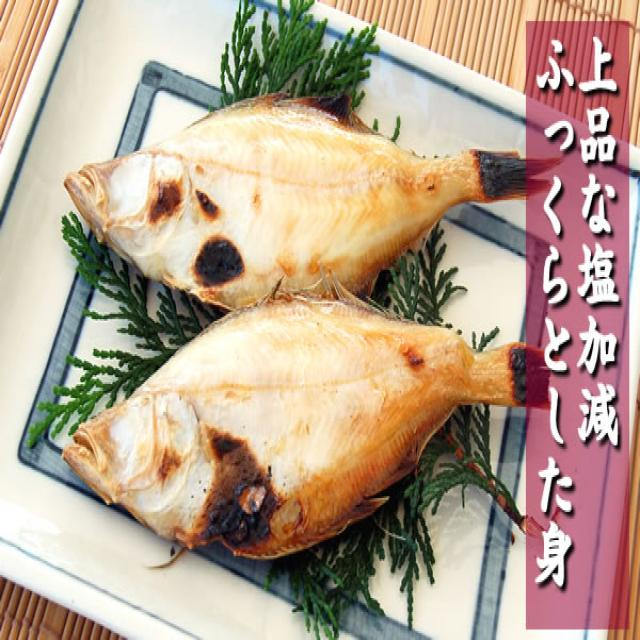熟制海鲜: (32, 88, 519, 572)
